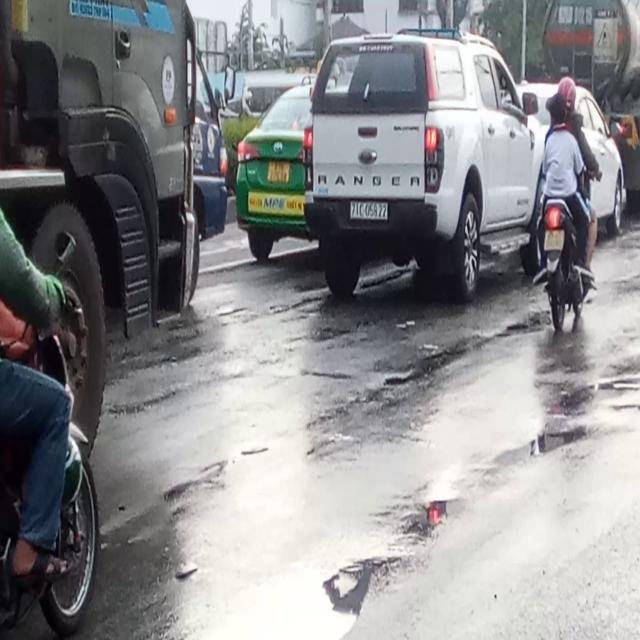bien_trang: (348, 200, 386, 223)
